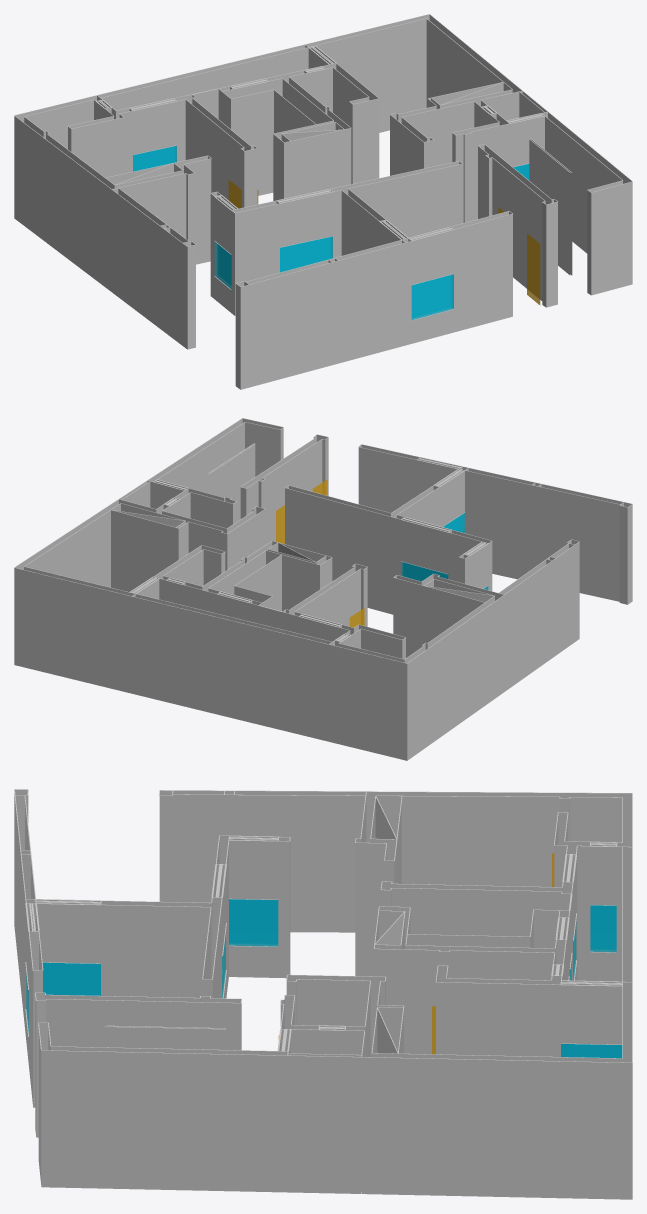
File: 17d32a1b-6d9b-4054-a37f-32cceac409c9.glb
The picture shows the model from 3 angles, top to bottom: view 1: azimuth 30°, elevation 25°; view 2: azimuth 150°, elevation 25°; view 3: azimuth 270°, elevation 25°; orthographic projection. The views are drawn at different scales.
Visible parts, largest first — view 1: walls, roof, windows, doors; view 2: walls, roof, windows, doors; view 3: walls, roof, windows.
Part boxes in pixels (bbox=[...]): walls: bbox=[14, 14, 632, 389]; roof: bbox=[14, 14, 632, 286]; windows: bbox=[133, 145, 529, 320]; doors: bbox=[228, 179, 540, 305]; walls: bbox=[14, 418, 632, 760]; roof: bbox=[14, 418, 632, 663]; windows: bbox=[401, 513, 488, 589]; doors: bbox=[276, 479, 364, 627]; walls: bbox=[14, 789, 632, 1199]; roof: bbox=[14, 789, 632, 1062]; windows: bbox=[26, 899, 622, 1058].
Bounding box in the file's own units: 15.01 × 3.5 × 14.34.
